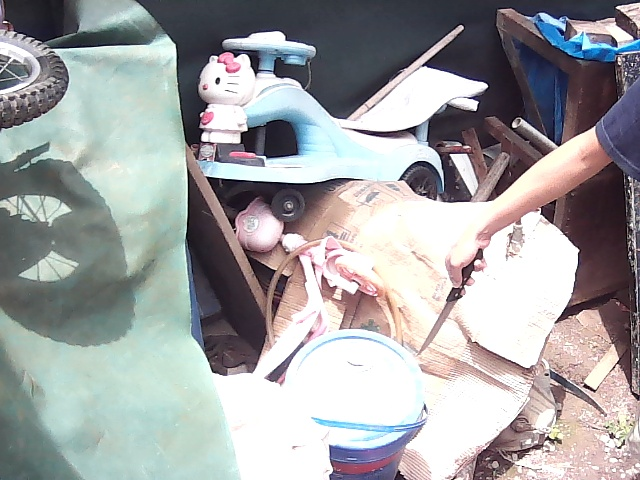cuchillo: (415, 284, 465, 359)
